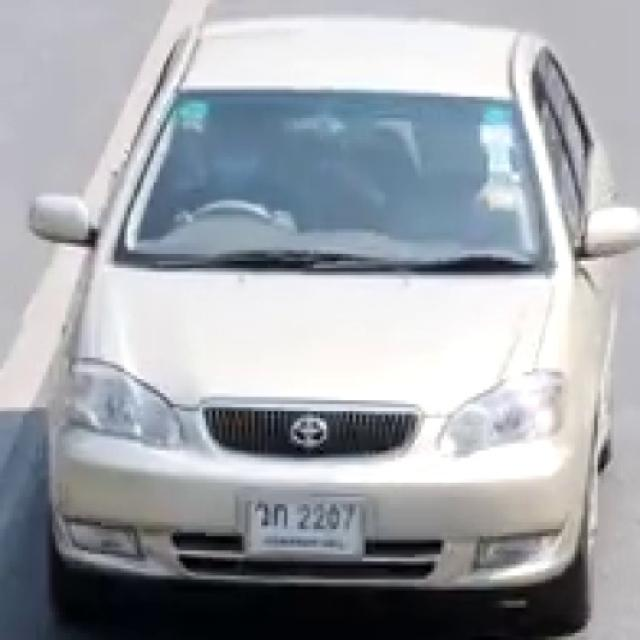plate: (238, 489, 370, 558)
